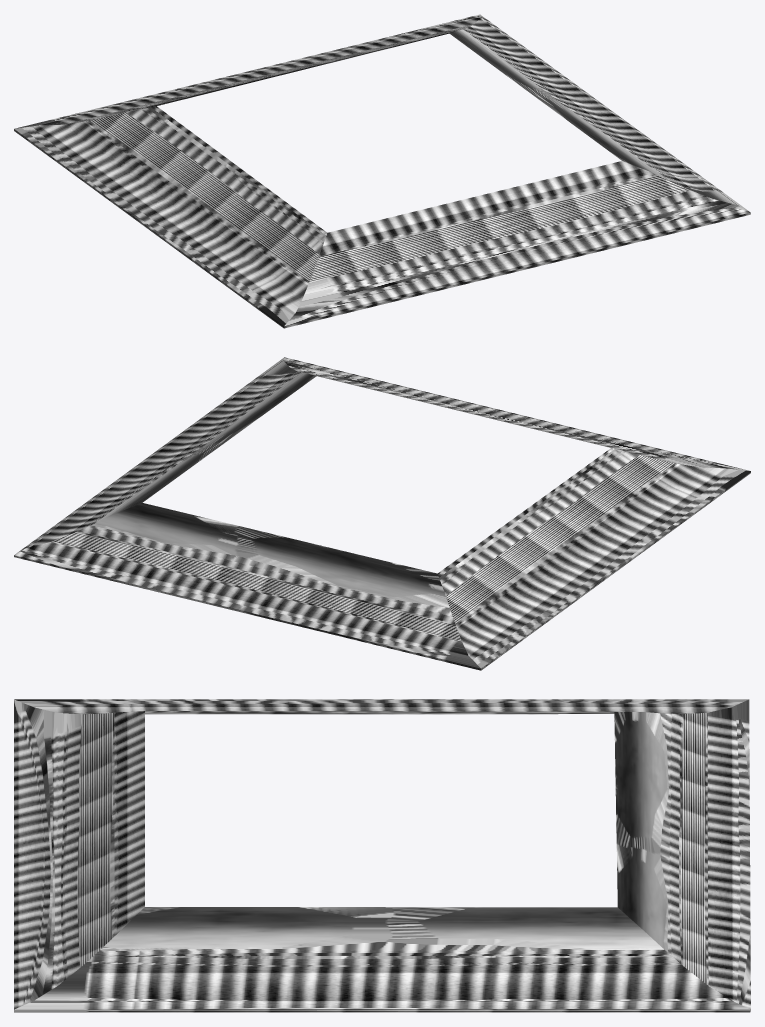
File: Tejado abajo.fbx
3 renders of one model, top to bottom at view 1: azimuth 30°, elevation 25°; view 2: azimuth 150°, elevation 25°; view 3: azimuth 270°, elevation 25°, orthographic. The views are drawn at different scales.
Parts seen in each view (by area): view 1: Cube.761; view 2: Cube.761; view 3: Cube.761.
Boxes of the visible parts, x1=… form: Cube.761: x1=14, y1=14, x2=750, y2=328; Cube.761: x1=14, y1=357, x2=750, y2=670; Cube.761: x1=14, y1=699, x2=750, y2=1012.
Bounding box in the file's own units: 1032 × 80.69 × 1035.
